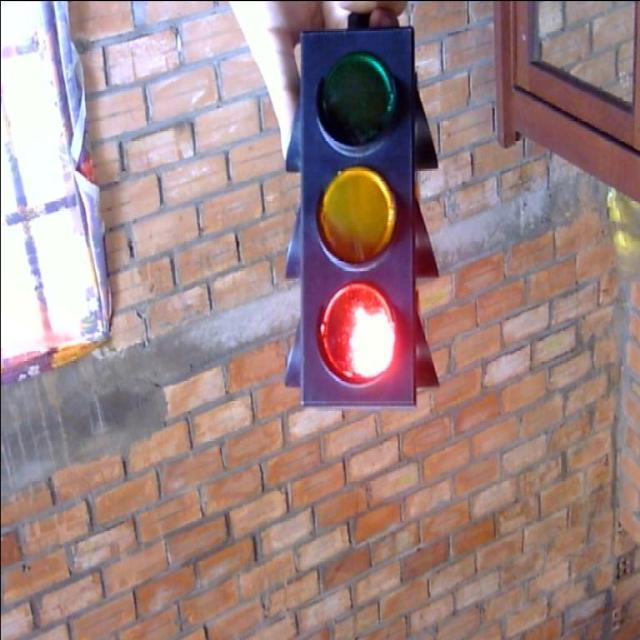red light: (303, 268, 402, 402)
